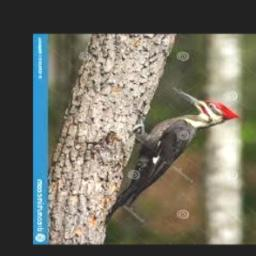Woodpecker: (104, 87, 238, 225)
